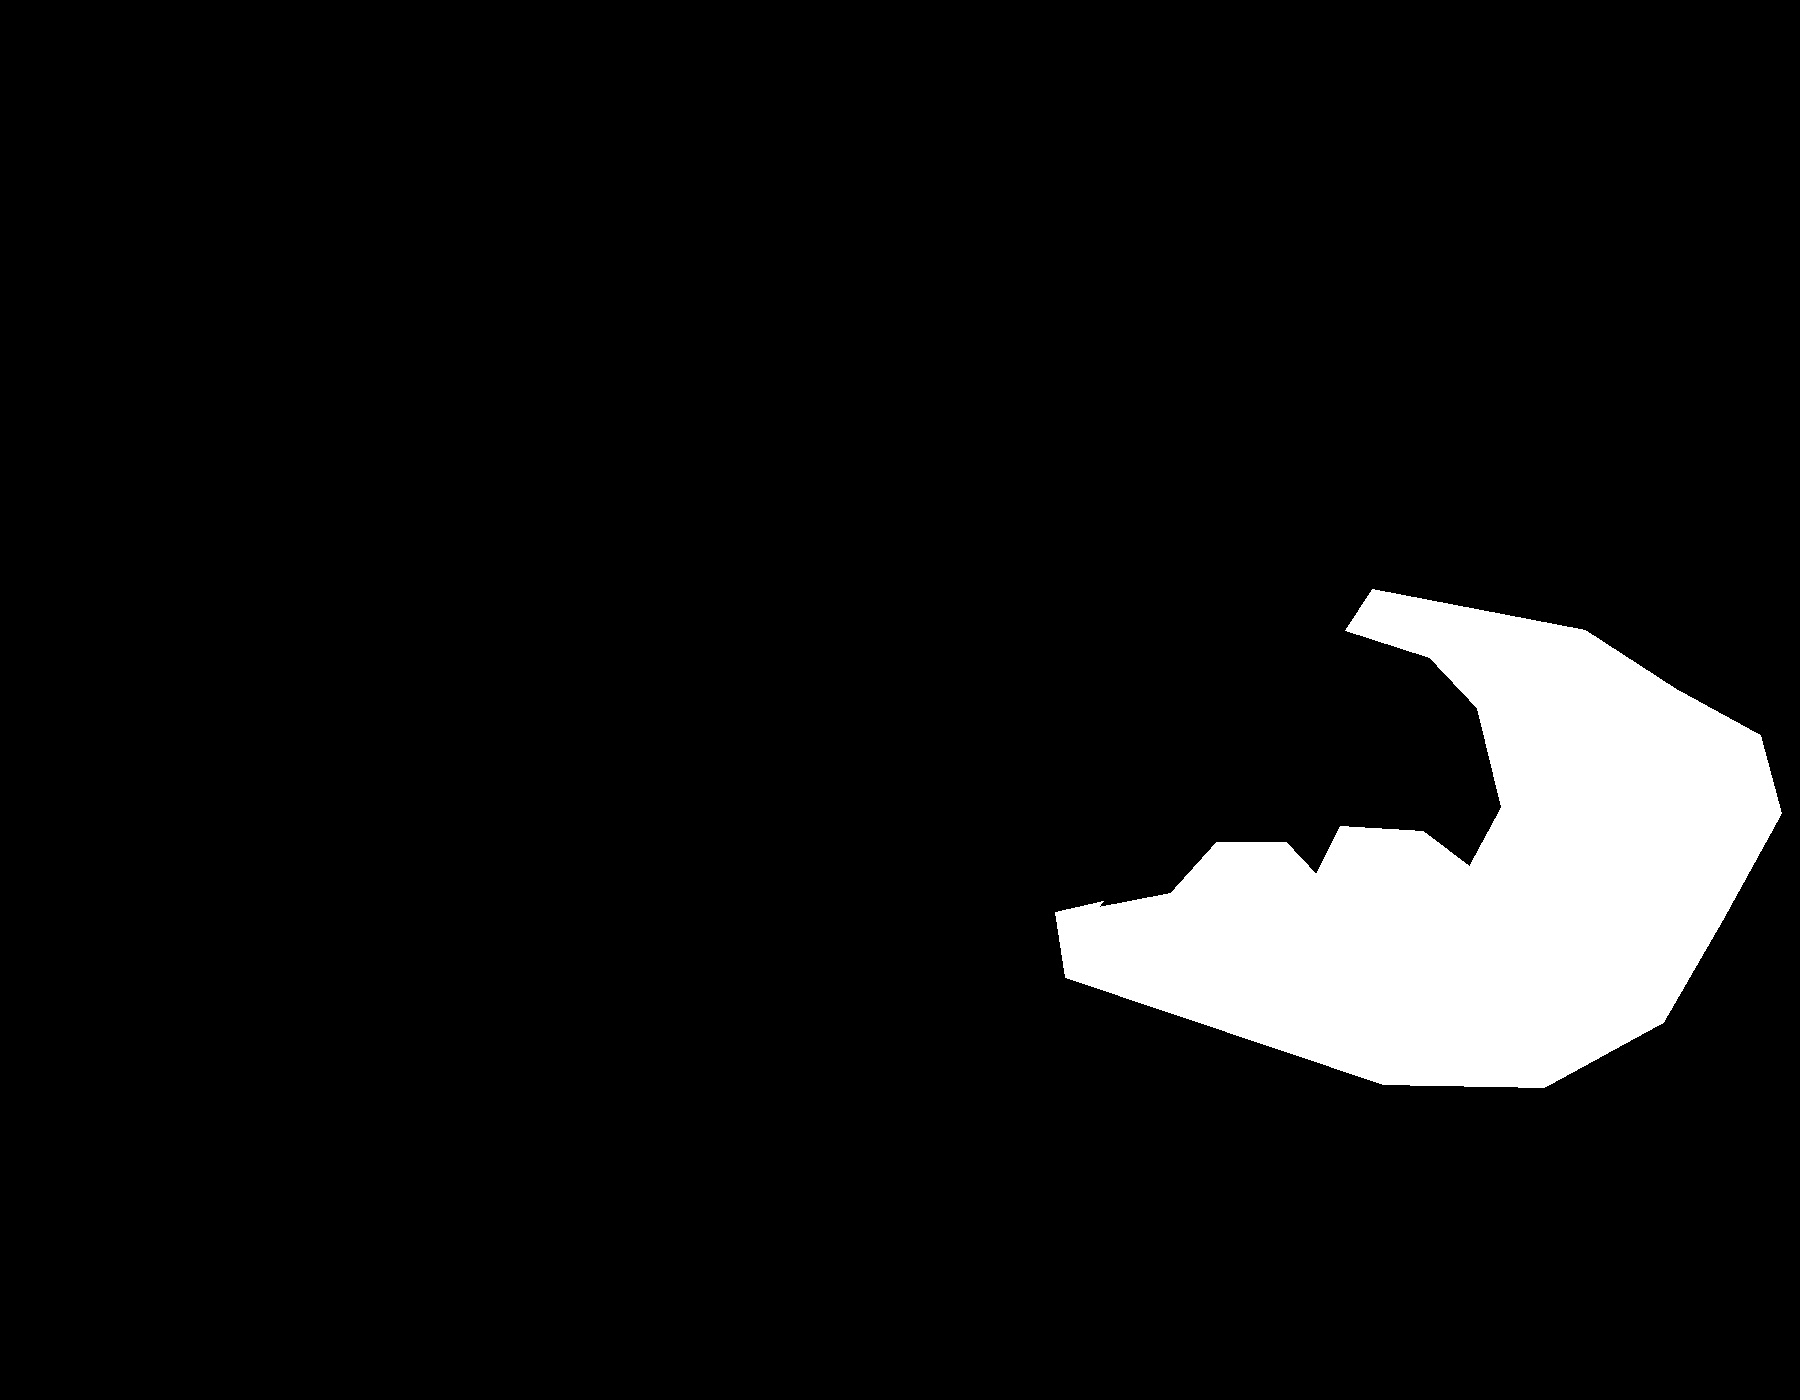Fire: (1, 547, 425, 1285), (1451, 637, 1800, 1296), (1067, 891, 1419, 1080)
